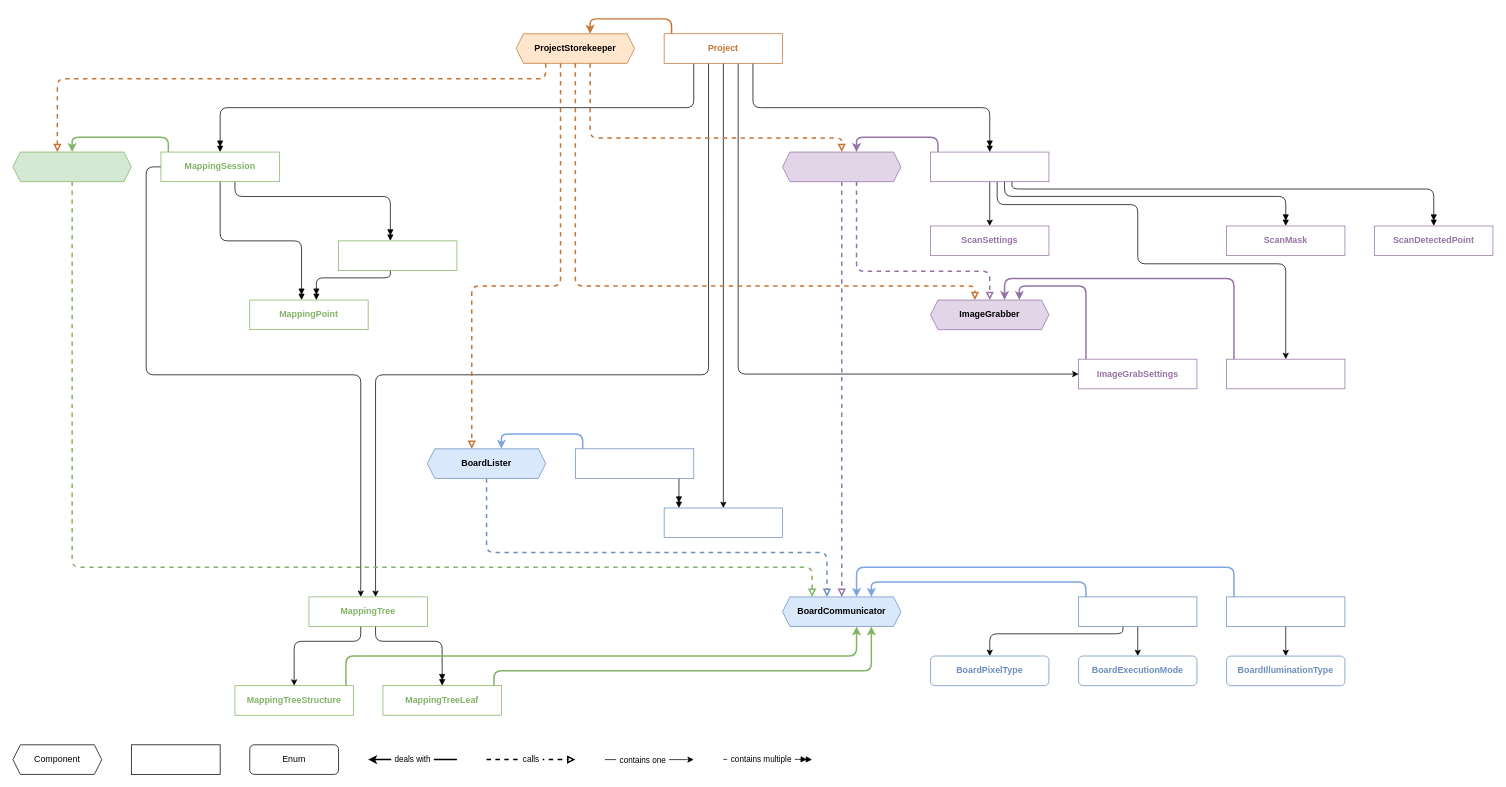
This 1506x787 diagram has some shape labels left out. Here are the shapes that lost their labels. From the top down, the centre of each, then its label:
point (71, 166): Mapper
point (841, 166): Scanner
point (989, 166): ScanSession
point (397, 255): MappingSegment
point (1285, 373): ScanImage
point (634, 463): BoardsList
point (723, 522): BoardIdentification
point (1137, 611): BoardConfiguration
point (1285, 611): BoardIllumination
point (175, 759): Entity
